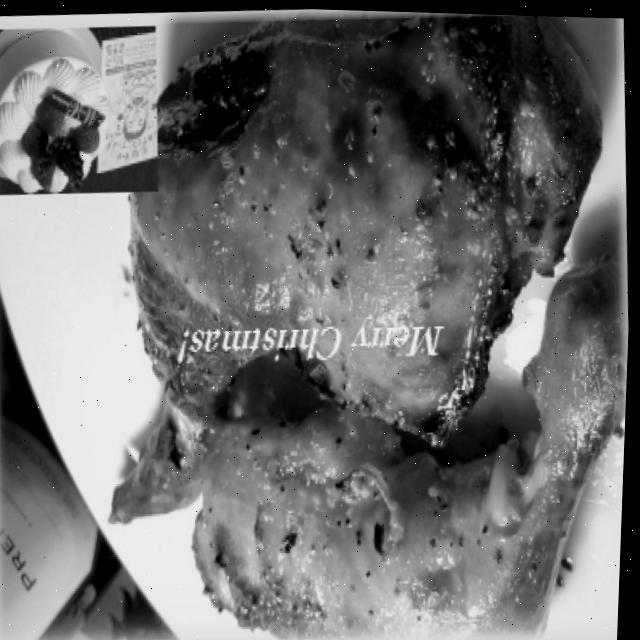鸡肉料理 含炸鸡: (154, 14, 616, 612)
